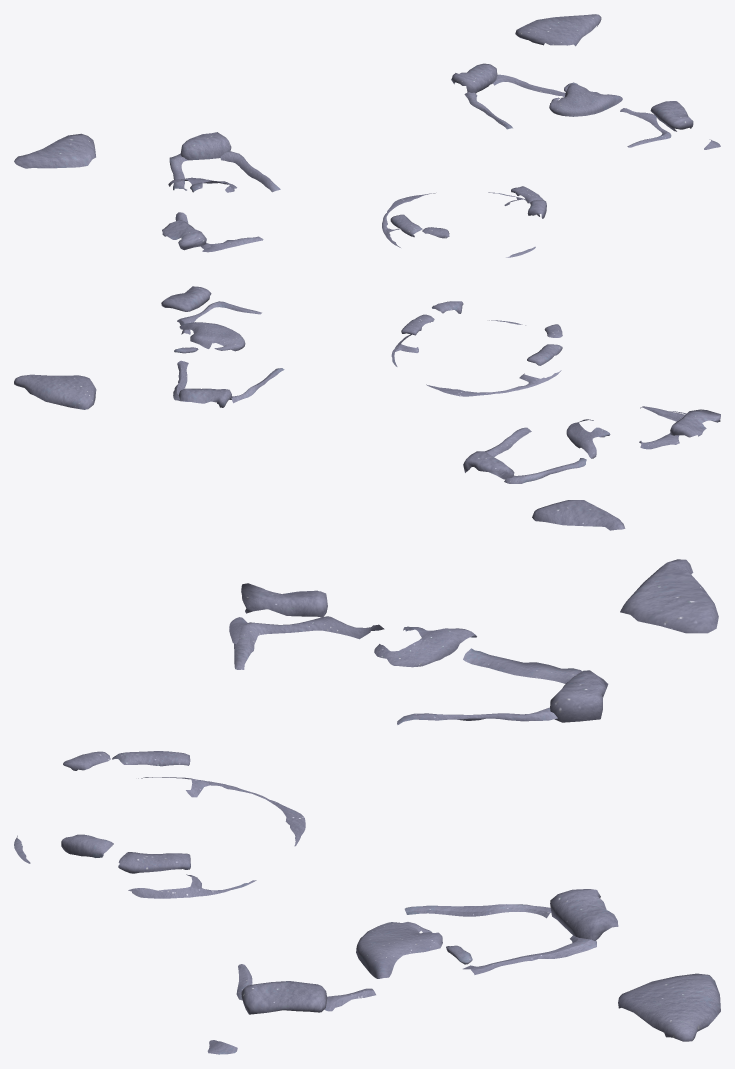
Rendered from pref_sm_beach_winter_snow02_lv2.fbx.
The picture shows the model from 3 angles, top to bottom: view 1: azimuth 30°, elevation 25°; view 2: azimuth 150°, elevation 25°; view 3: azimuth 270°, elevation 25°; orthographic projection. The views are drawn at different scales.
Visible parts, largest first — view 1: pref_sm_beach_winter_snow02_lv2; view 2: pref_sm_beach_winter_snow02_lv2; view 3: pref_sm_beach_winter_snow02_lv2.
Boxes of the visible parts, x1,y1,x2,y2 form: pref_sm_beach_winter_snow02_lv2: (14,14,720,257); pref_sm_beach_winter_snow02_lv2: (14,286,720,530); pref_sm_beach_winter_snow02_lv2: (14,559,720,1054).
Size of the model in its own units: 50.13 by 2.91 by 31.28.
